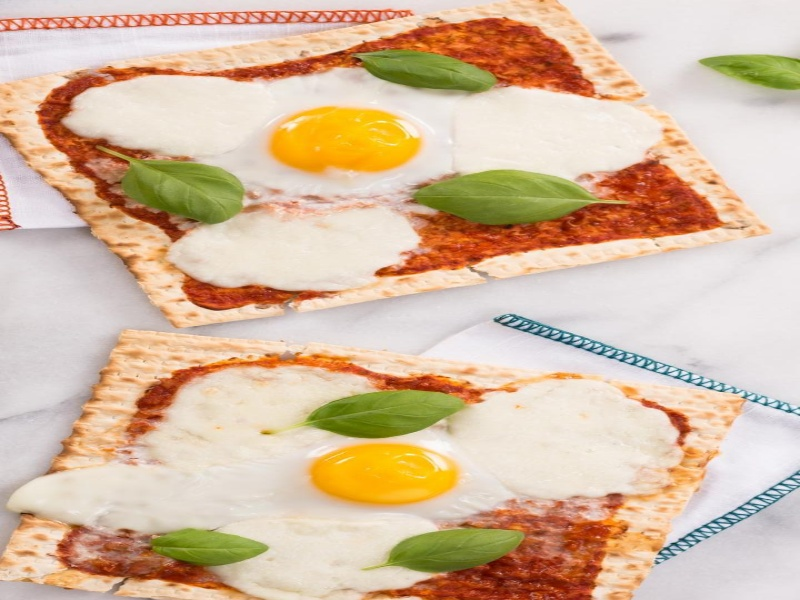oeuf: (251, 96, 438, 192), (302, 441, 467, 523)
